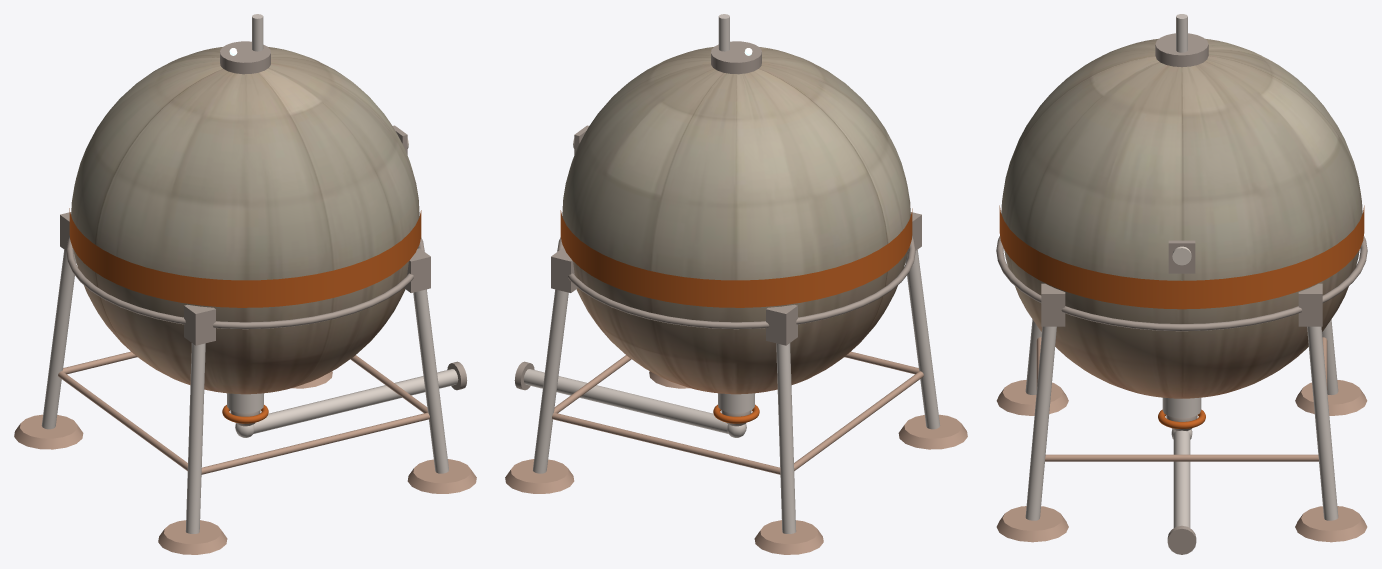
The model's file is E08_sphere_tank_methane.glb.
3 views of the same model, side by side, from view 1: azimuth 30°, elevation 25°; view 2: azimuth 150°, elevation 25°; view 3: azimuth 270°, elevation 25° (orthographic). The views are drawn at different scales.
Parts seen in each view (by area): view 1: tank, leg, equator_band, footpad, leg_ring; view 2: tank, leg, equator_band, footpad, leg_ring; view 3: tank, equator_band, leg, footpad, leg_ring.
Part boxes in pixels (x1,y1,x2,y2): tank: (71,47,419,394); leg: (41,14,458,533); equator_band: (69,138,421,423); footpad: (14,351,476,554); leg_ring: (60,41,467,426); tank: (562,47,910,394); leg: (523,14,940,533); equator_band: (560,138,912,423); footpad: (505,351,967,554); leg_ring: (514,41,921,426); tank: (1001,38,1362,398); equator_band: (999,205,1364,428); leg: (1025,14,1338,527); footpad: (996,337,1367,542); leg_ring: (996,33,1367,554).
Bounding box in the file's own units: 3.67 × 4.15 × 3.08.
Materials: 6 (1 with a texture image).
